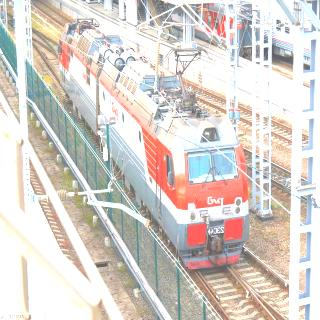poezd: (61, 22, 252, 260)
